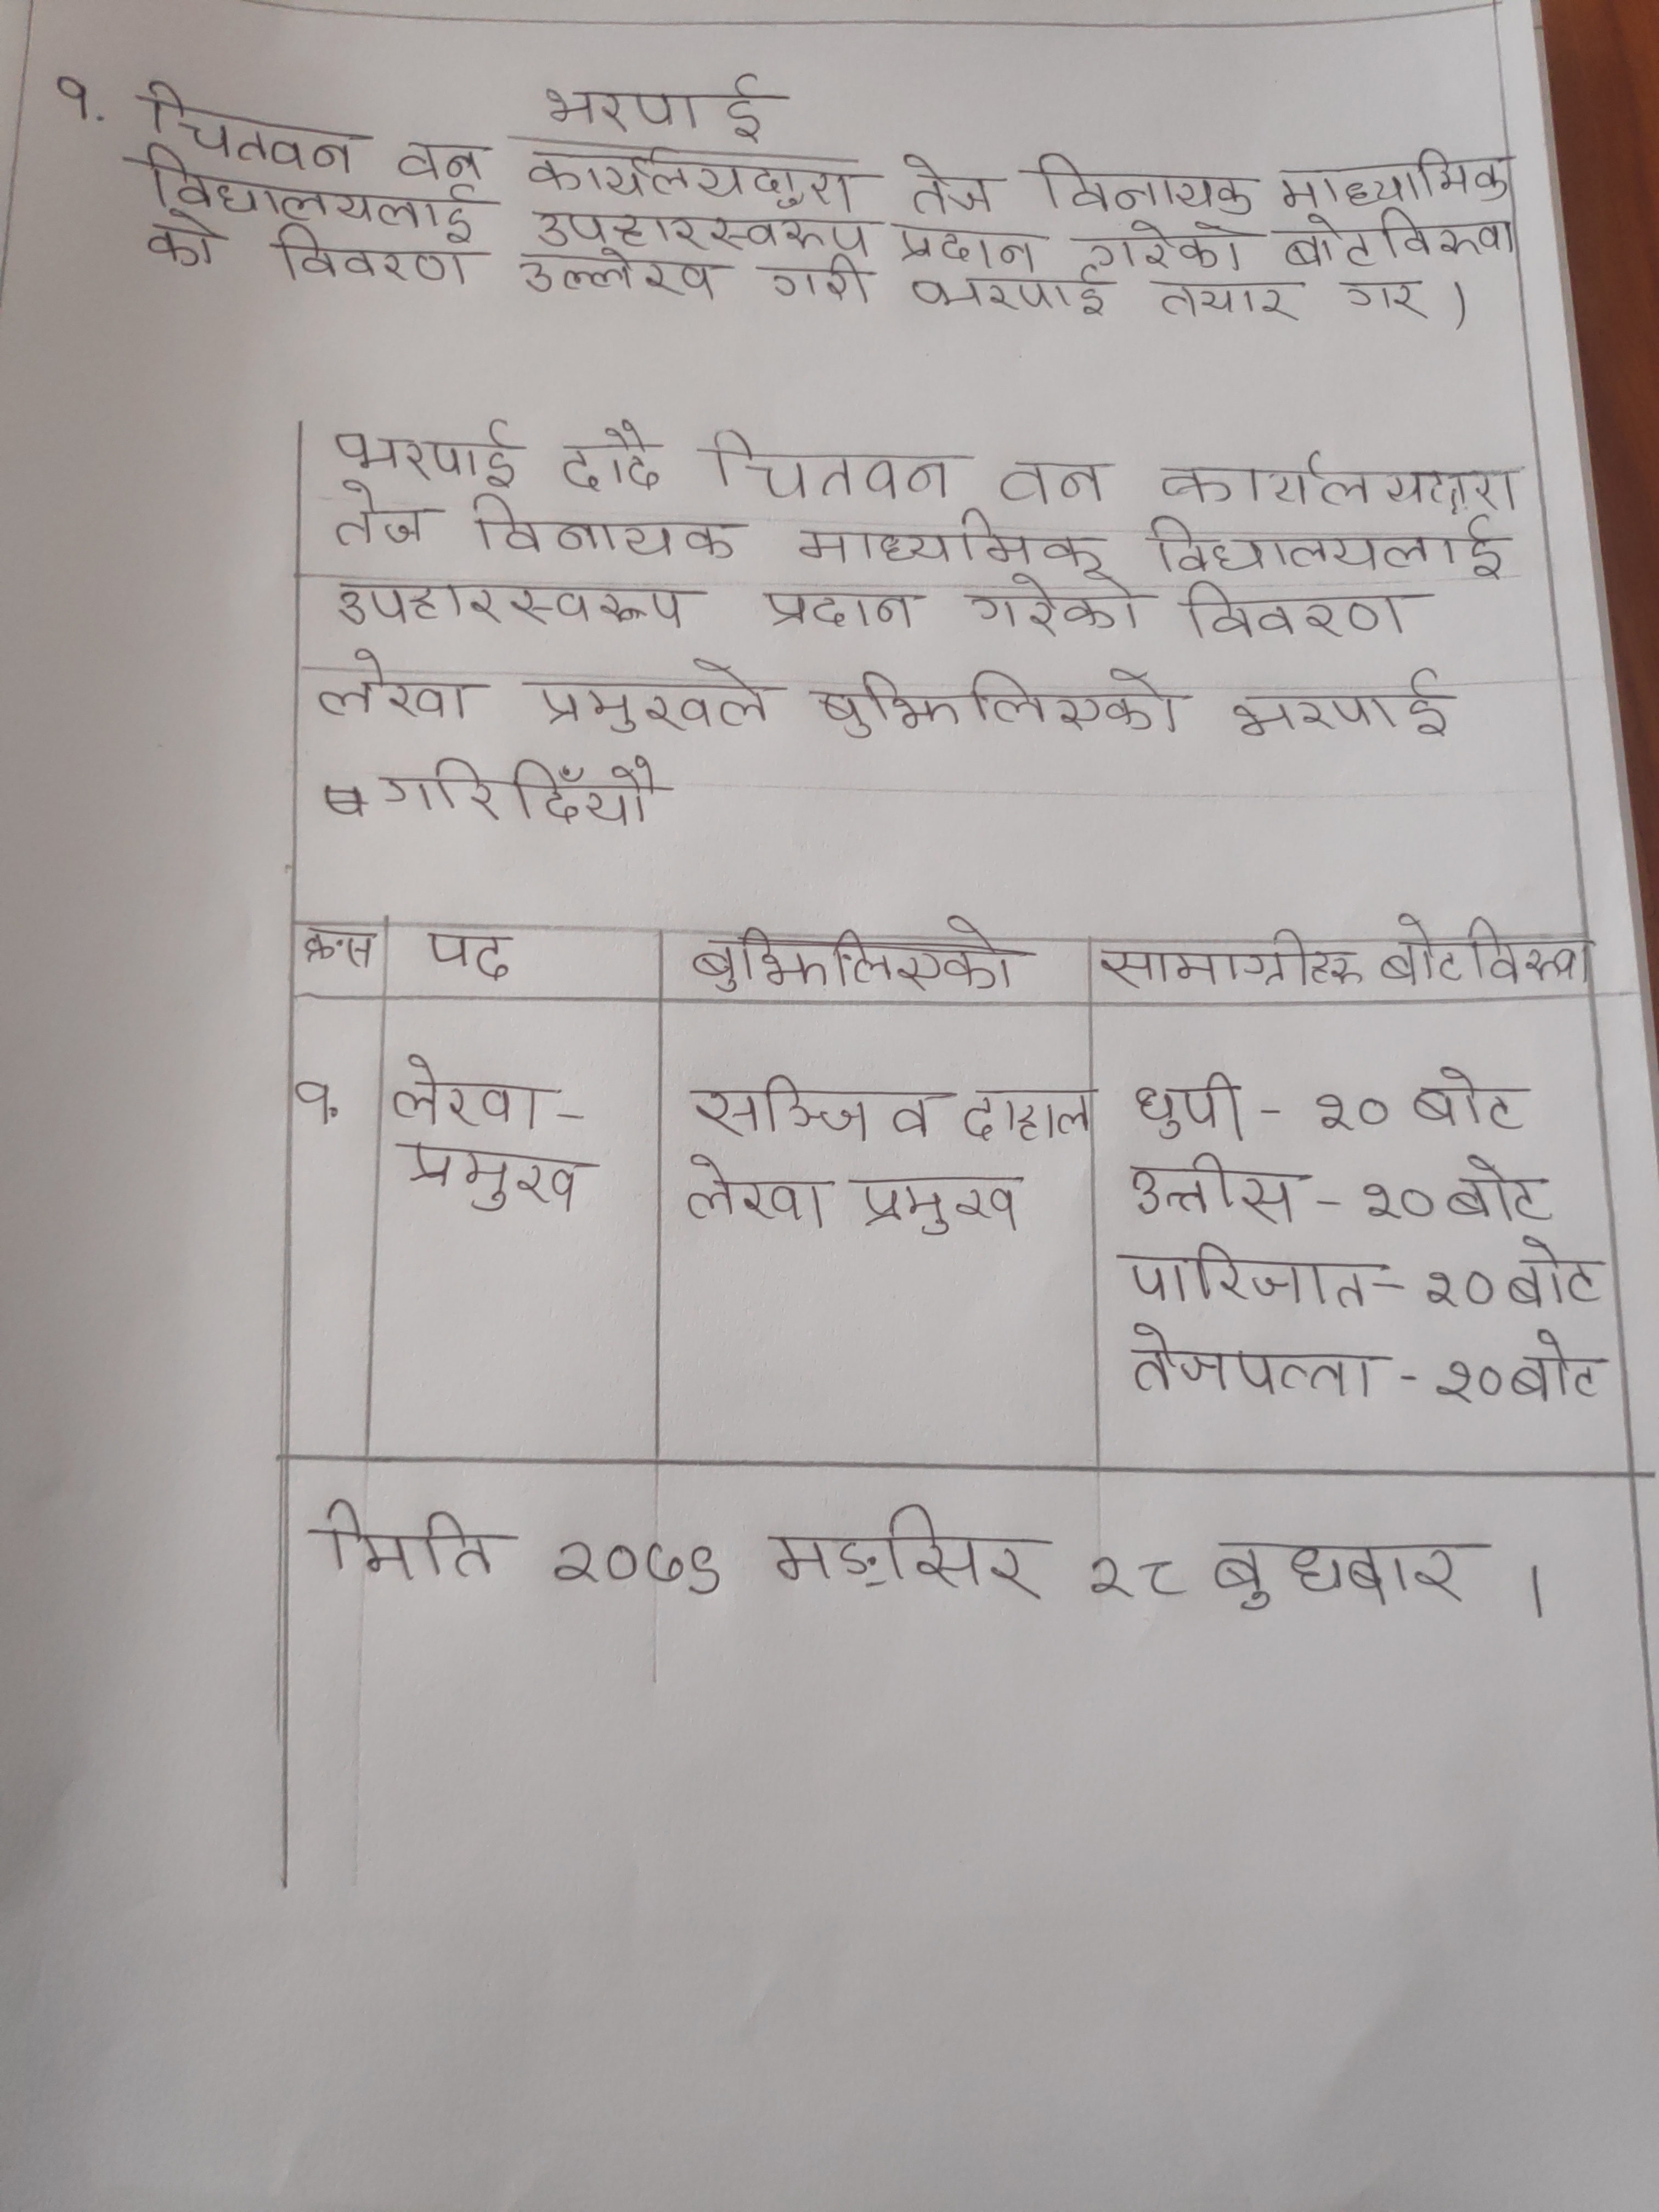text: (762, 1501, 1046, 1608), (687, 907, 1028, 995), (816, 665, 1190, 738), (1209, 1529, 1495, 1615), (146, 167, 483, 239), (1138, 517, 1518, 580), (525, 145, 861, 214), (1159, 453, 1521, 516), (514, 655, 774, 738), (376, 752, 671, 826), (462, 489, 742, 564), (1124, 1320, 1380, 1400), (706, 421, 955, 503), (132, 84, 361, 172), (333, 573, 688, 627), (540, 71, 788, 146), (1115, 1244, 1377, 1313), (1230, 665, 1457, 744), (798, 517, 1105, 575), (1373, 911, 1593, 991), (1094, 927, 1366, 991), (526, 209, 875, 258), (317, 1493, 500, 1581), (1028, 150, 1256, 219), (399, 1134, 584, 1217), (1173, 578, 1417, 641), (690, 1078, 941, 1139), (1274, 148, 1513, 209), (387, 1049, 554, 1130), (319, 643, 481, 726), (674, 1146, 835, 1230), (1126, 1150, 1305, 1223), (268, 225, 465, 291), (328, 418, 526, 482), (1288, 211, 1518, 265), (549, 1531, 727, 1601), (523, 242, 721, 303), (958, 575, 1147, 636), (854, 1170, 1028, 1235), (910, 265, 1115, 319), (1082, 214, 1249, 272), (1154, 270, 1307, 329), (957, 1082, 1098, 1143), (1453, 1151, 1565, 1226), (892, 219, 1046, 273), (559, 418, 669, 491), (328, 477, 436, 550), (755, 583, 917, 632), (1504, 1233, 1607, 1310), (1513, 1324, 1608, 1404), (999, 446, 1114, 512), (1134, 1073, 1249, 1139), (1412, 1066, 1534, 1127), (892, 152, 993, 221), (760, 249, 875, 308), (1077, 1547, 1187, 1601), (138, 211, 228, 273), (389, 134, 493, 185), (427, 927, 519, 981), (1358, 1177, 1443, 1231), (1344, 273, 1429, 326), (1424, 1259, 1497, 1318), (1309, 1089, 1394, 1139), (301, 918, 382, 970), (1434, 1355, 1504, 1414)
